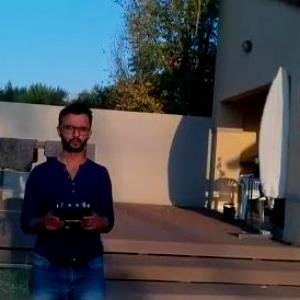follow: (17, 93, 122, 299)
